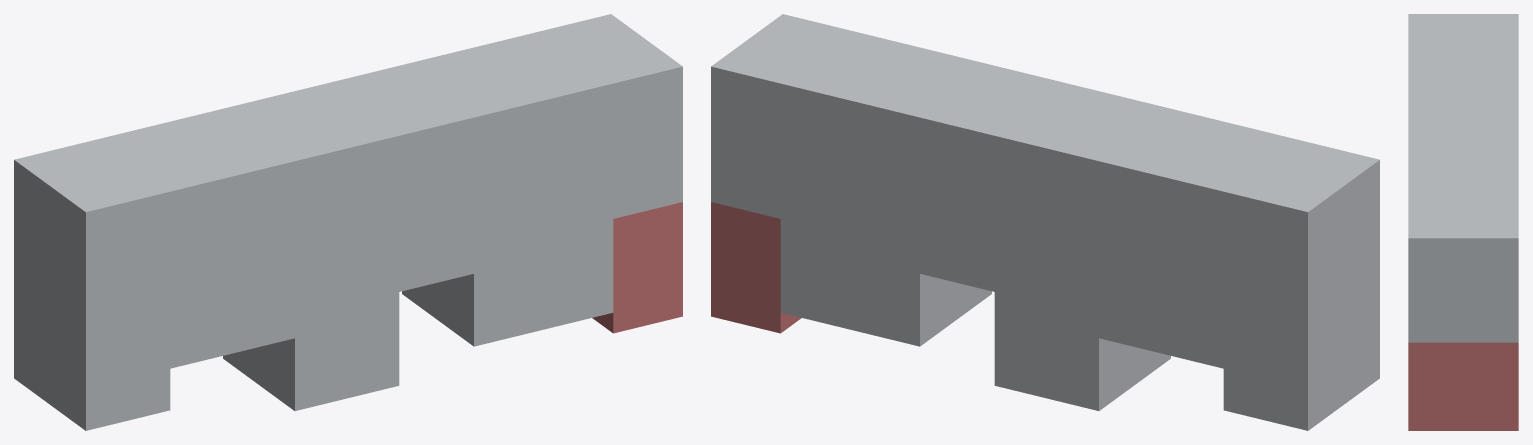
File: step_06.glb
The picture shows the model from 3 angles, left to right: view 1: azimuth 30°, elevation 25°; view 2: azimuth 150°, elevation 25°; view 3: azimuth 270°, elevation 25°; orthographic projection. The views are drawn at different scales.
Parts seen in each view (by area): view 1: part__slotted bar (four arrangements), removed__slotted bar (four arrangements); view 2: part__slotted bar (four arrangements), removed__slotted bar (four arrangements); view 3: part__slotted bar (four arrangements), removed__slotted bar (four arrangements).
Part boxes in pixels (<box>): part__slotted bar (four arrangements): <box>14,14,682,430</box>; removed__slotted bar (four arrangements): <box>592,202,682,333</box>; part__slotted bar (four arrangements): <box>711,14,1379,430</box>; removed__slotted bar (four arrangements): <box>711,202,801,333</box>; part__slotted bar (four arrangements): <box>1408,14,1518,342</box>; removed__slotted bar (four arrangements): <box>1408,342,1518,430</box>.
Size of the model in its own units: 120 by 48 by 25.
